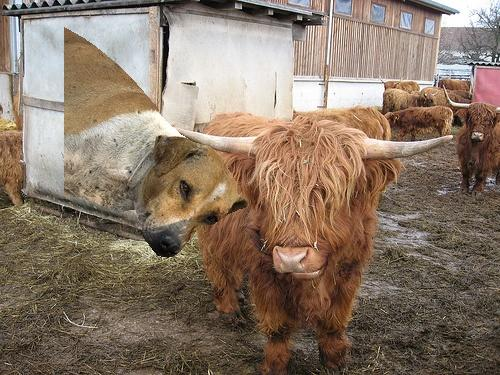tampered: (65, 28, 248, 257)
